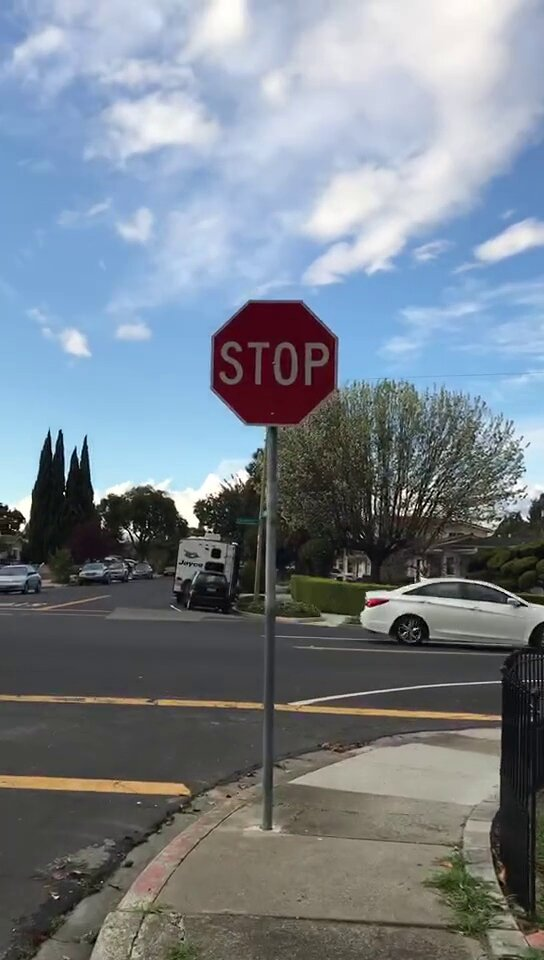stop_sign: (213, 302, 337, 425)
